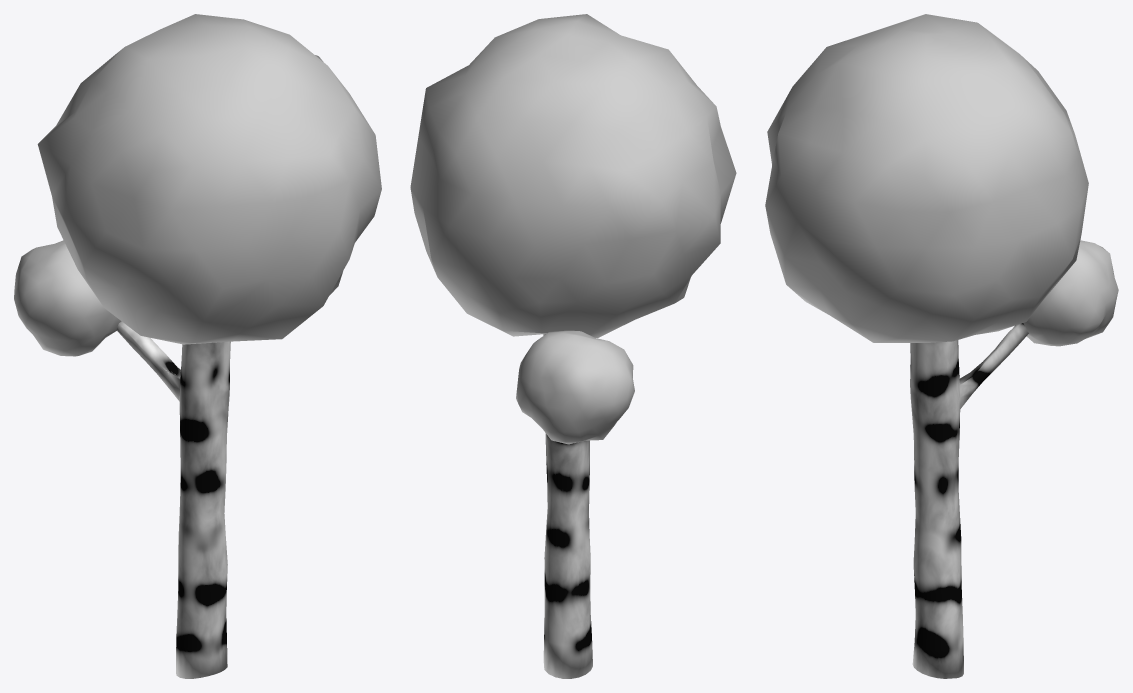
Rendered from BirchGreen.fbx.
3 renders of one model, left to right at view 1: azimuth 30°, elevation 25°; view 2: azimuth 150°, elevation 25°; view 3: azimuth 270°, elevation 25°, orthographic. The views are drawn at different scales.
Visible parts, largest first — view 1: BirchGreen; view 2: BirchGreen; view 3: BirchGreen.
Boxes of the visible parts, <box> form: BirchGreen: <box>14,14,381,678</box>; BirchGreen: <box>410,14,736,678</box>; BirchGreen: <box>765,14,1118,678</box>.
Bounding box in the file's own units: 237 × 500 × 250.
